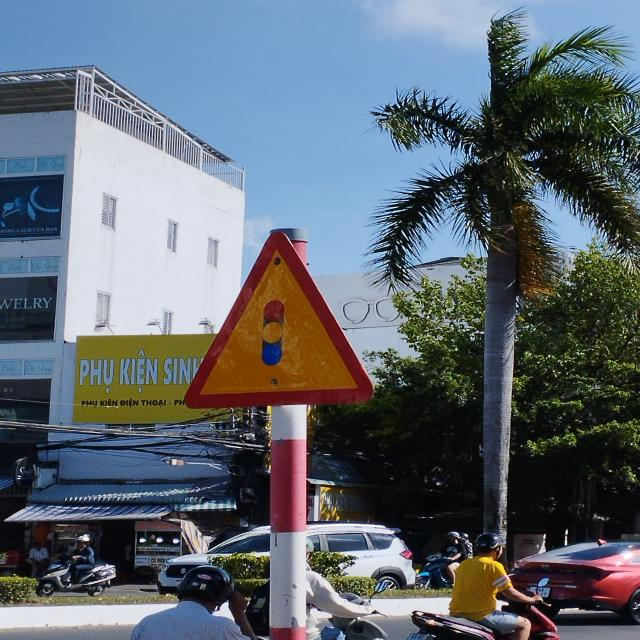Duong_Co_Go_Giam_Toc: (186, 231, 377, 409)
